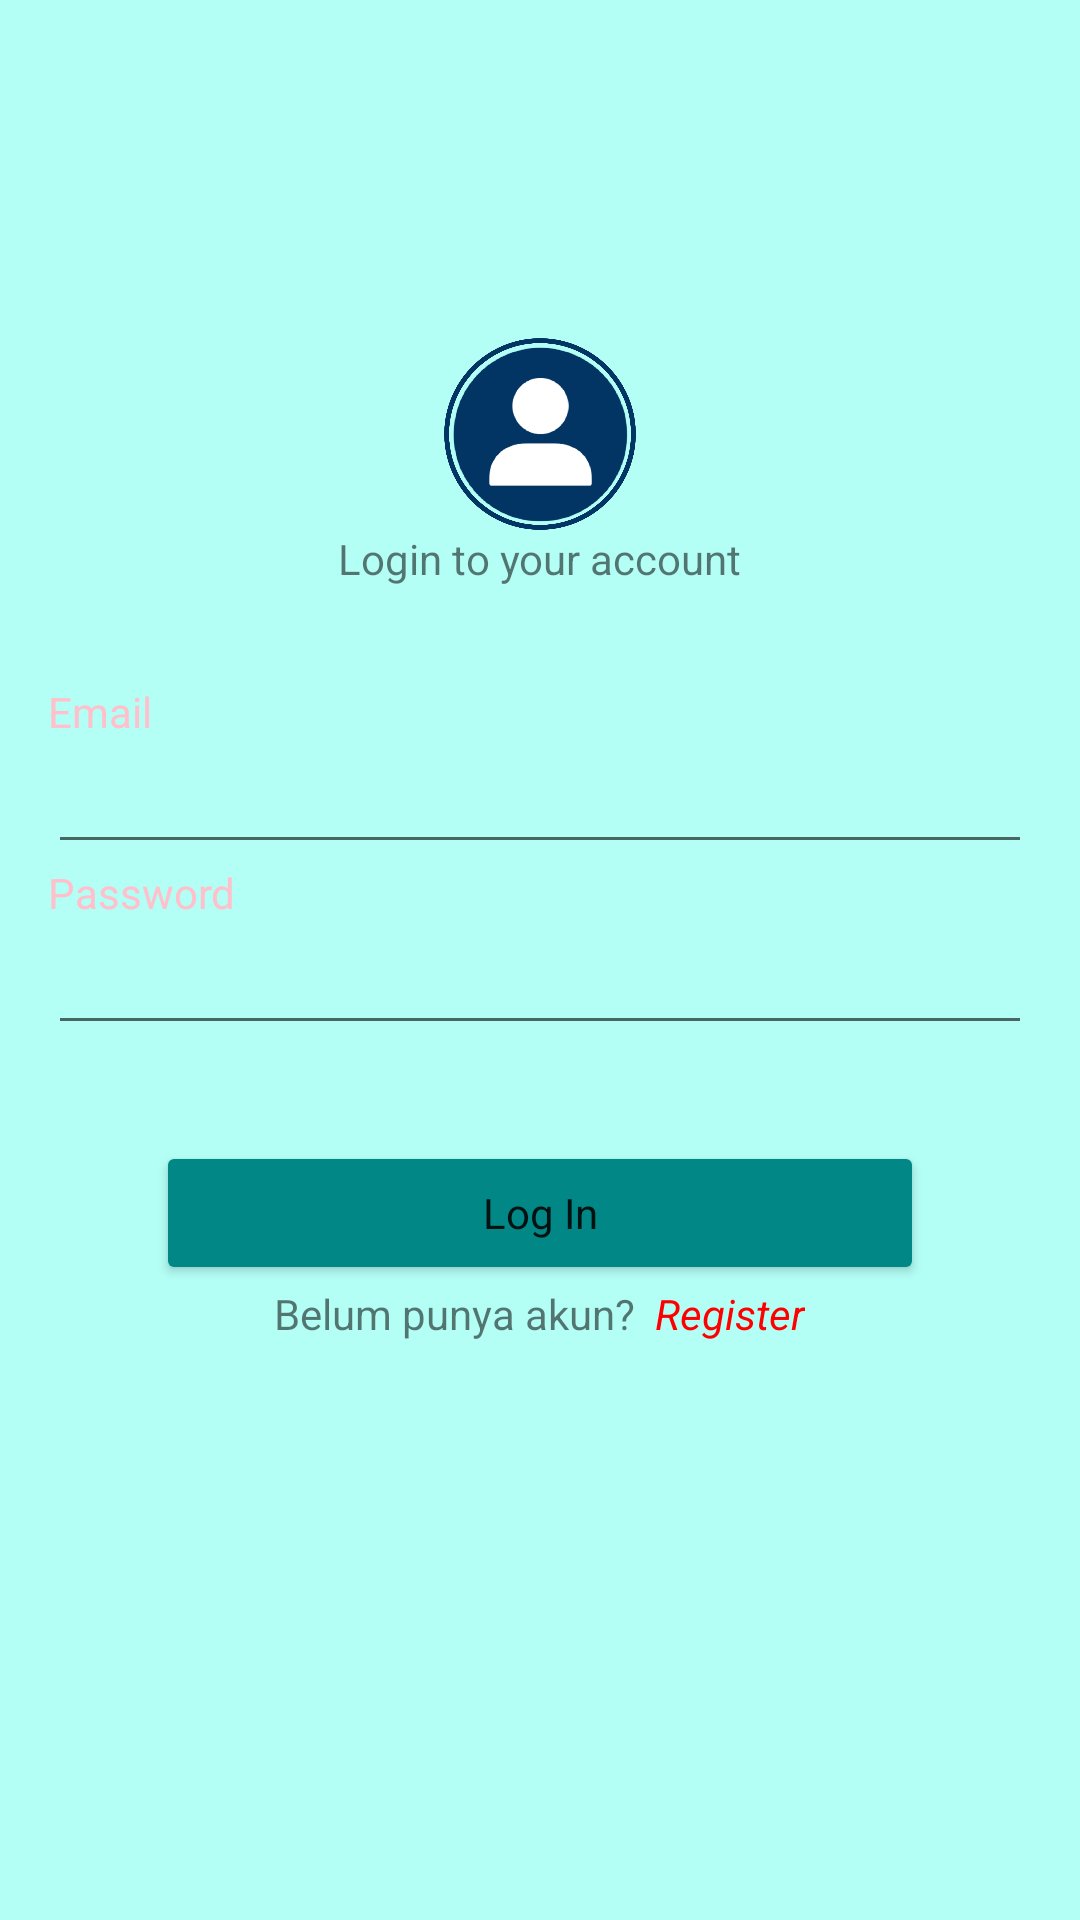

Named icons in this screenshot (1080px×1920px) and their centers, point (x, y):
user: point (540, 434)
